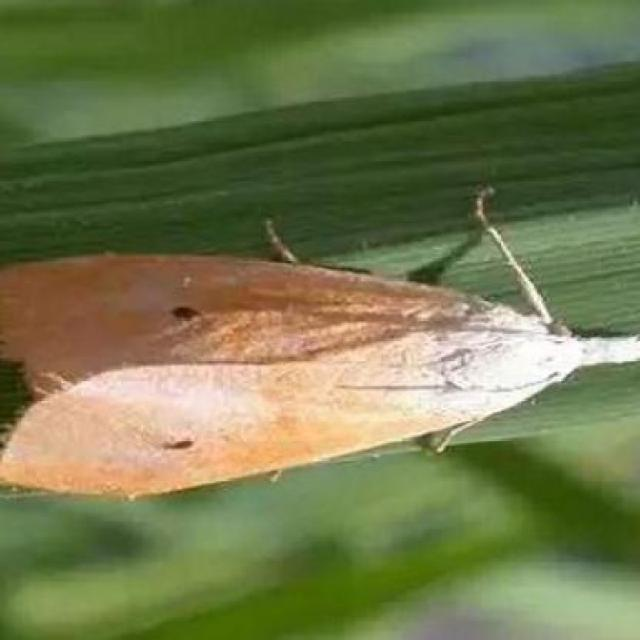stem-borer: (0, 236, 640, 504)
